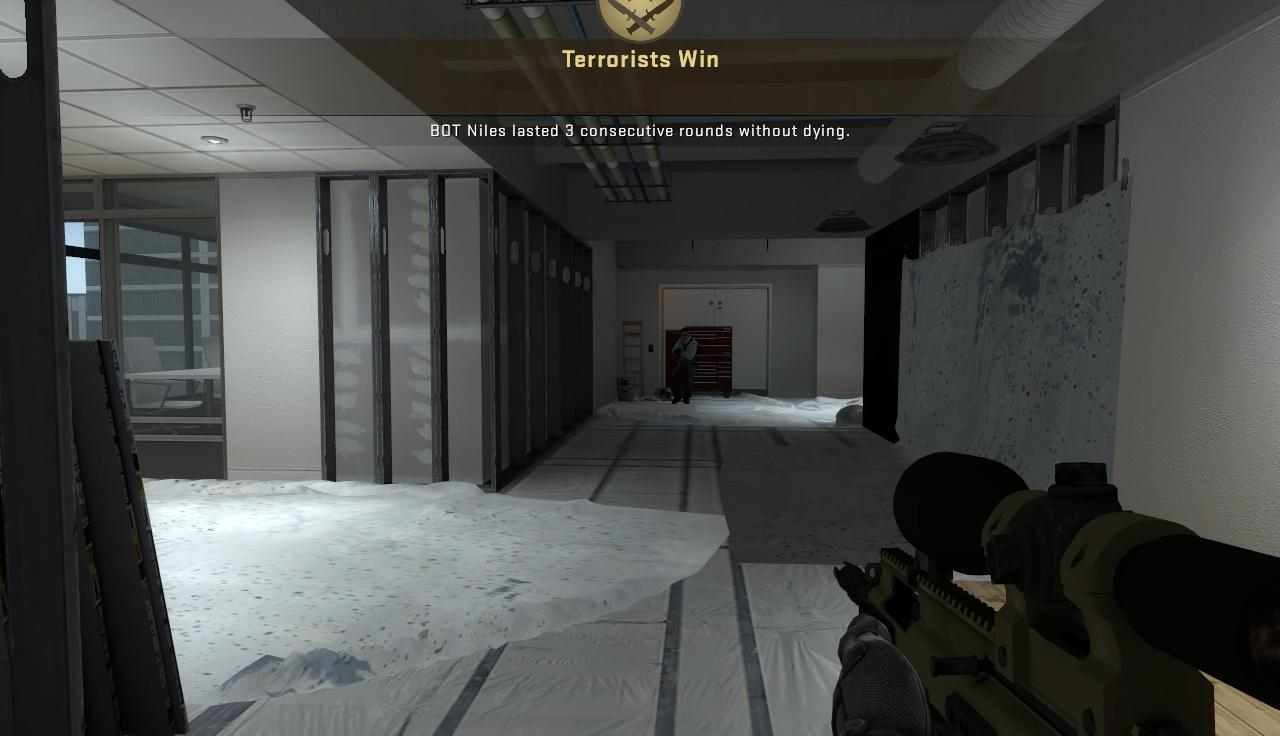sniper: (817, 454, 1280, 736)
tt: (672, 327, 695, 404)
tthead: (680, 328, 689, 340)
